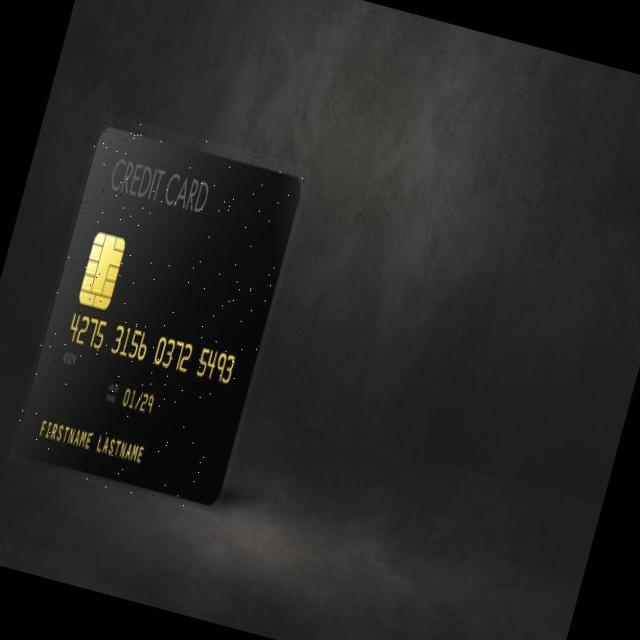payment_card: (10, 119, 303, 506)
